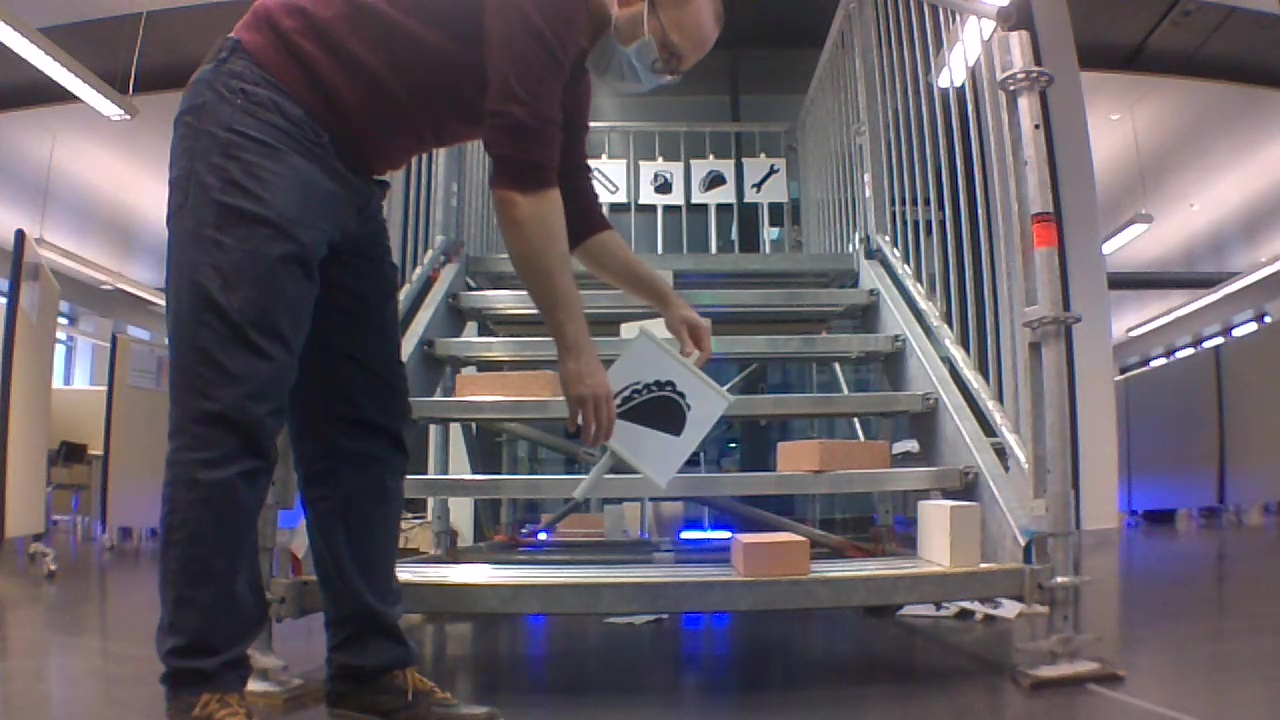brick: (918, 500, 981, 567), (730, 534, 808, 576), (777, 440, 889, 469), (456, 370, 560, 398)
bucket: (644, 168, 675, 196)
edge: (409, 568, 1026, 609)
ruler: (590, 167, 621, 197)
taco: (611, 371, 694, 448), (695, 167, 728, 197)
wrench: (747, 161, 782, 196)
